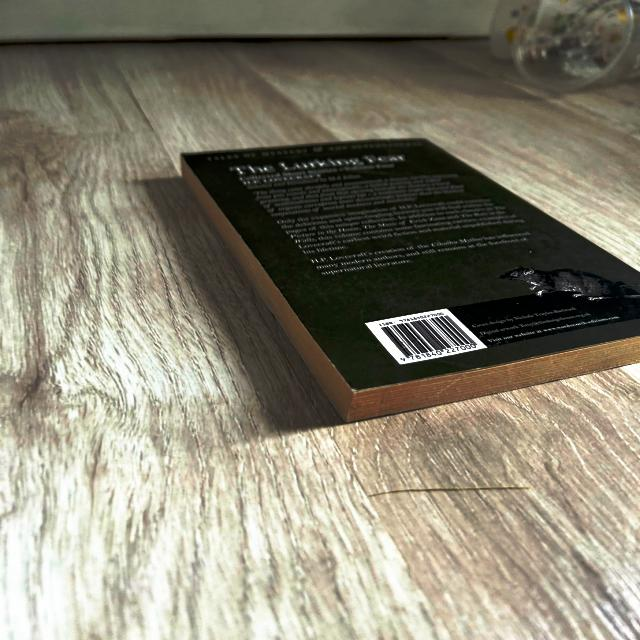Book: (182, 140, 639, 422)
